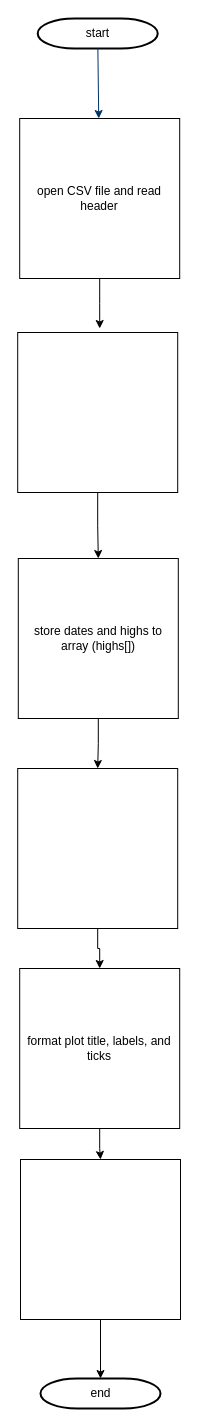
The diagram is 198 pixels wide and 1426 high, and some of its shapes have lost their labels. The centre of each missing label's shape, as x and y in pixels:
display plot with plt.show(): (x=100, y=1239)
loop over and parse date and high temperature in row 6 (index 5): (x=97, y=412)
plot high temps in red: (x=97, y=848)
